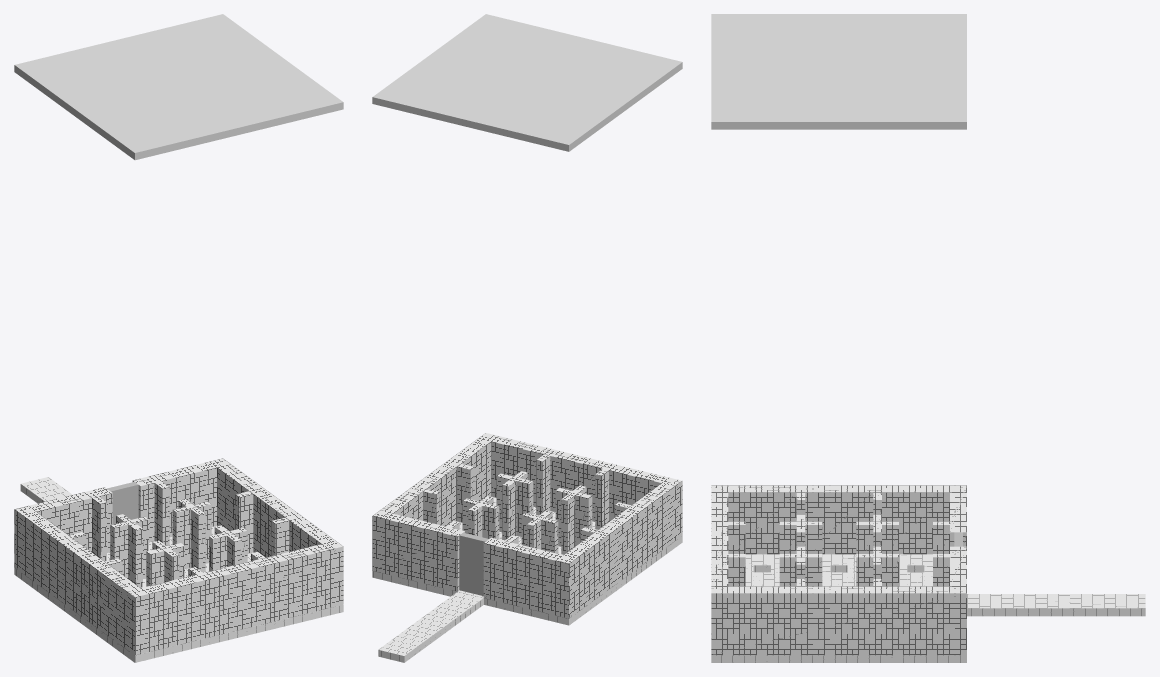
File: Level_M_1.FBX
3 renders of one model, left to right at view 1: azimuth 30°, elevation 25°; view 2: azimuth 150°, elevation 25°; view 3: azimuth 270°, elevation 25°, orthographic. The views are drawn at different scales.
Parts seen in each view (by area): view 1: Text02, Box01, Text01, Box002; view 2: Text02, Box01, Text01, Box002; view 3: Text02, Box01, Text01.
Boxes of the visible parts, x1,y1,x2,y2 form: Text02: (14, 458, 343, 655); Box01: (14, 14, 343, 160); Text01: (14, 477, 343, 662); Box002: (107, 482, 138, 524); Text02: (372, 433, 682, 618); Box01: (372, 14, 682, 151); Text01: (372, 496, 682, 662); Box002: (459, 532, 488, 595); Text02: (711, 485, 966, 655); Box01: (711, 14, 966, 129); Text01: (711, 554, 1145, 662).
Size of the model in its own units: 1.91 by 4.45 by 3.24.
